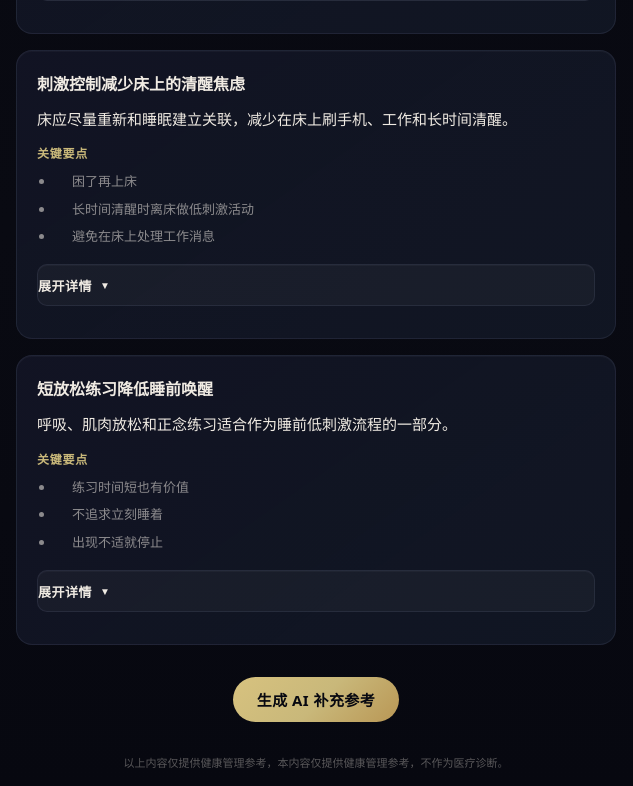
it: KnowledgePage › saves AI supplemental cards when generated from trusted view
The image size is (633, 786).
(page scrolled)
Click the button "生成 AI 补充参考".
click(316, 700)  # box left=233, top=677, right=399, bottom=722
(page scrolled)
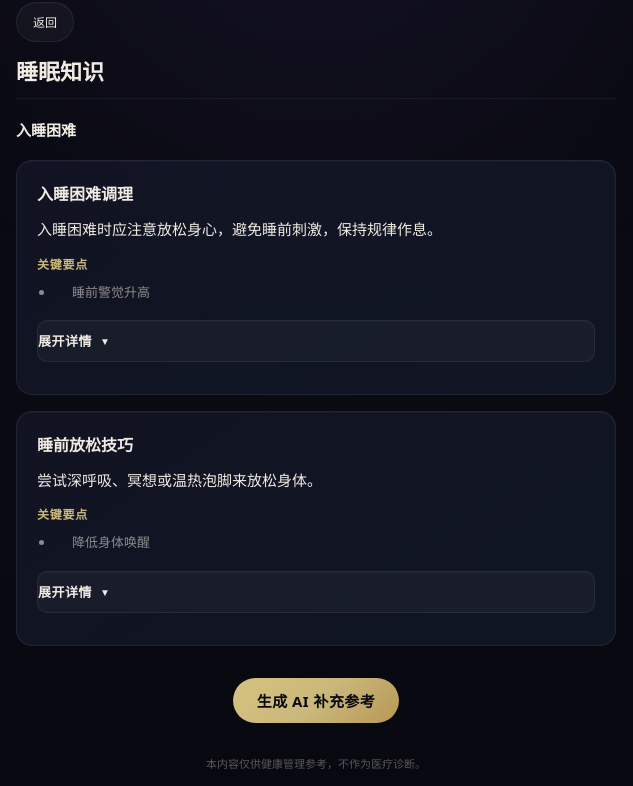
expect the heading "入睡困难调理" is shown: met, box left=37, top=186, right=133, bottom=203
